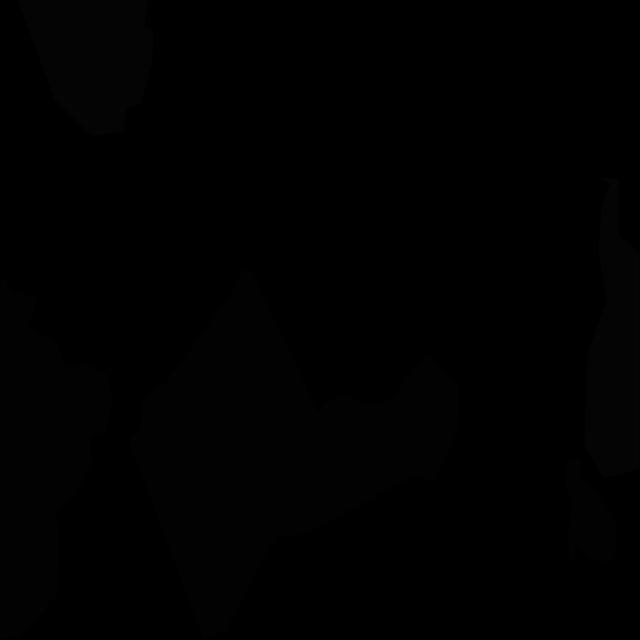cardboard: (129, 269, 459, 639), (0, 276, 112, 639), (565, 458, 616, 563)
soft_plastic: (18, 0, 153, 136), (584, 176, 640, 478)
